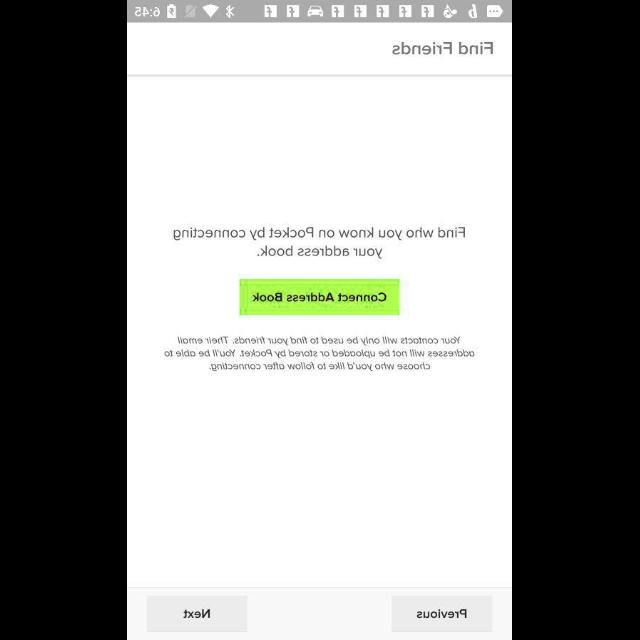text: (165, 336, 475, 372), (174, 227, 466, 259), (392, 42, 493, 56)
textbutton: (240, 280, 400, 316), (148, 596, 248, 632), (392, 596, 492, 632)
uppertaskbar: (128, 1, 512, 23)
